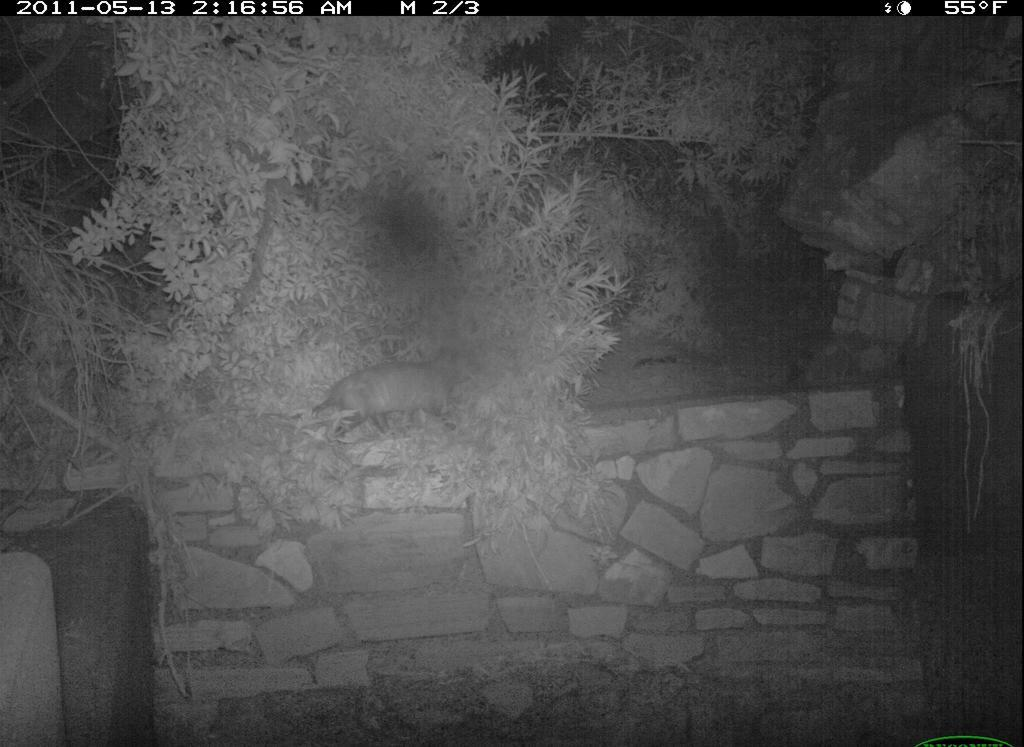opossum: (305, 347, 482, 438)
